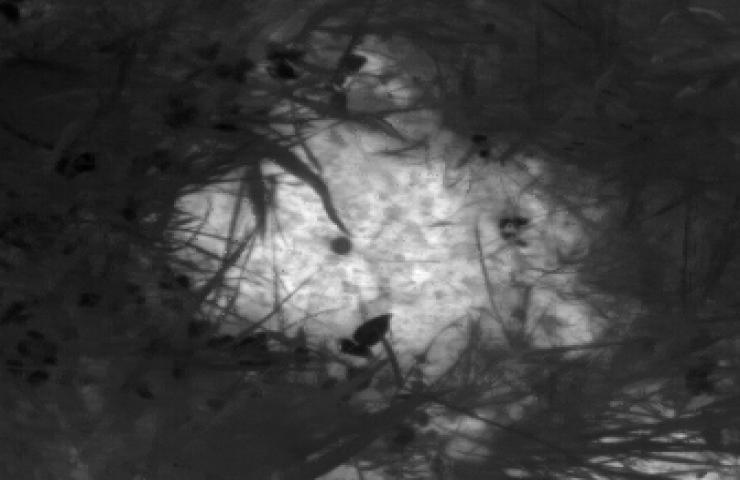landmines: (165, 31, 633, 390)
